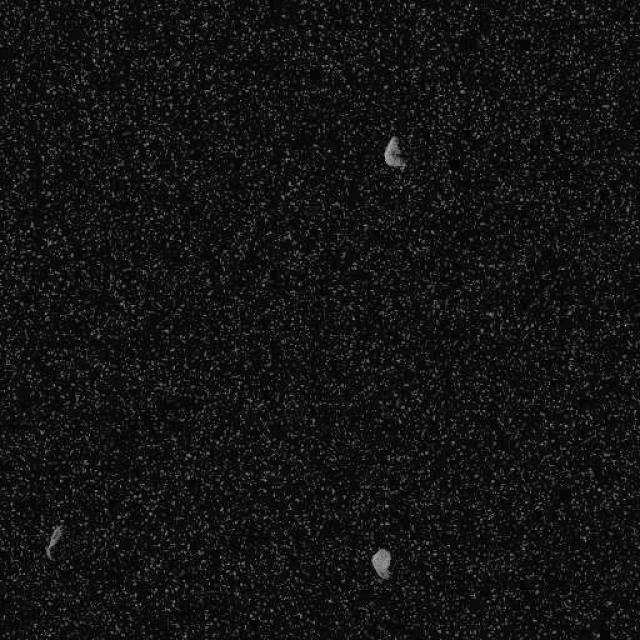D2: (382, 135, 407, 169), (44, 522, 64, 562), (370, 546, 391, 580)
